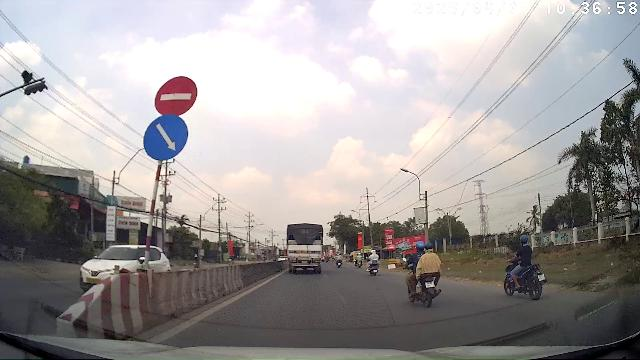102-cam-di-nguoc-chieu: (154, 74, 198, 115)
302a-huong-phai-di-vong-chuong-ngai-vat-1: (143, 114, 189, 161)
